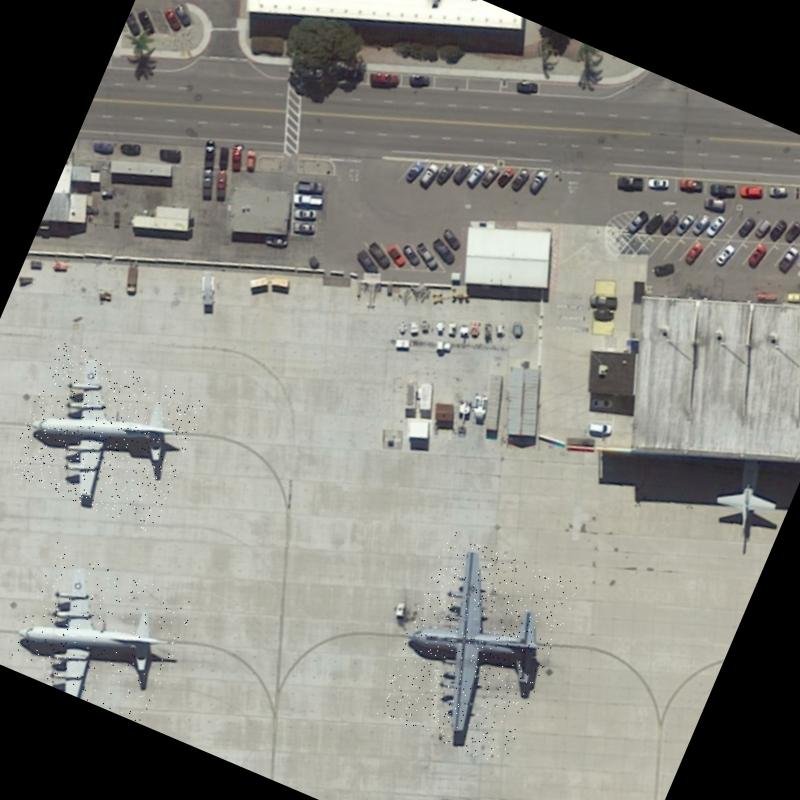A2: (372, 530, 580, 768)
A9: (5, 340, 208, 534), (4, 541, 196, 725)
